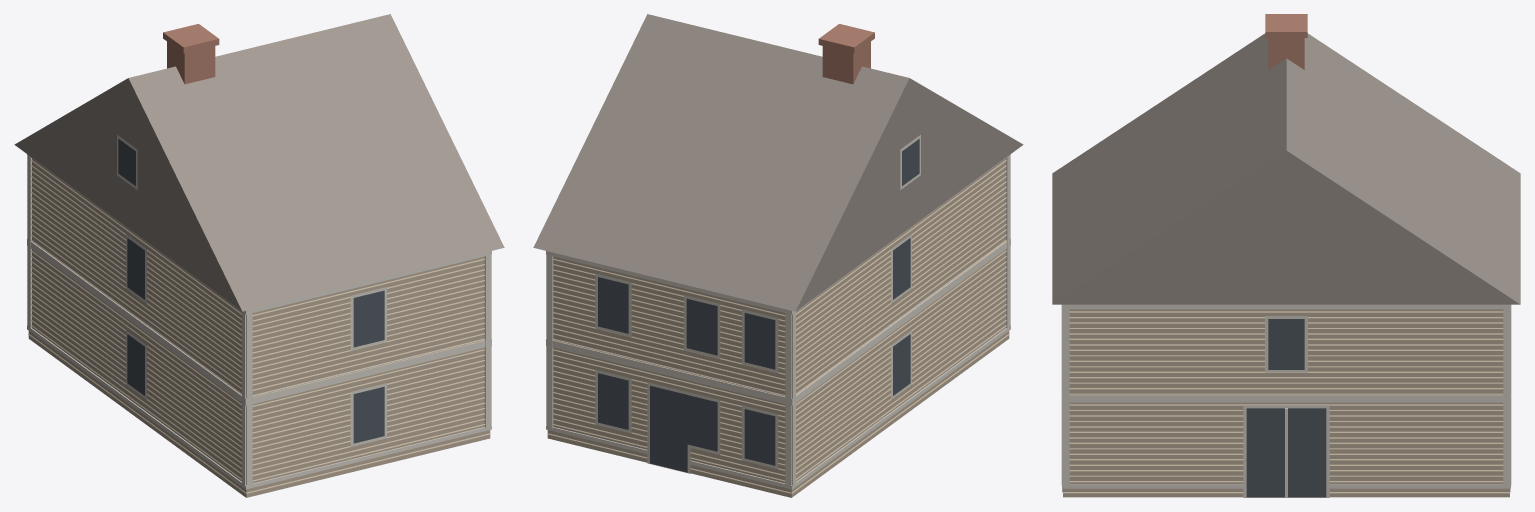
File: temple_lake_st_building__documented_1835.glb
The picture shows the model from 3 angles, left to right: view 1: azimuth 30°, elevation 25°; view 2: azimuth 150°, elevation 25°; view 3: azimuth 270°, elevation 25°; orthographic projection. The views are drawn at different scales.
Parts seen in each view (by area): view 1: temple_lake_st_building__documented_1835; view 2: temple_lake_st_building__documented_1835; view 3: temple_lake_st_building__documented_1835.
Part boxes in pixels (x1=…): temple_lake_st_building__documented_1835: x1=14, y1=14, x2=504, y2=497; temple_lake_st_building__documented_1835: x1=533, y1=14, x2=1023, y2=497; temple_lake_st_building__documented_1835: x1=1052, y1=14, x2=1520, y2=497.
Size of the model in its own units: 7.24 by 9.71 by 10.86.
